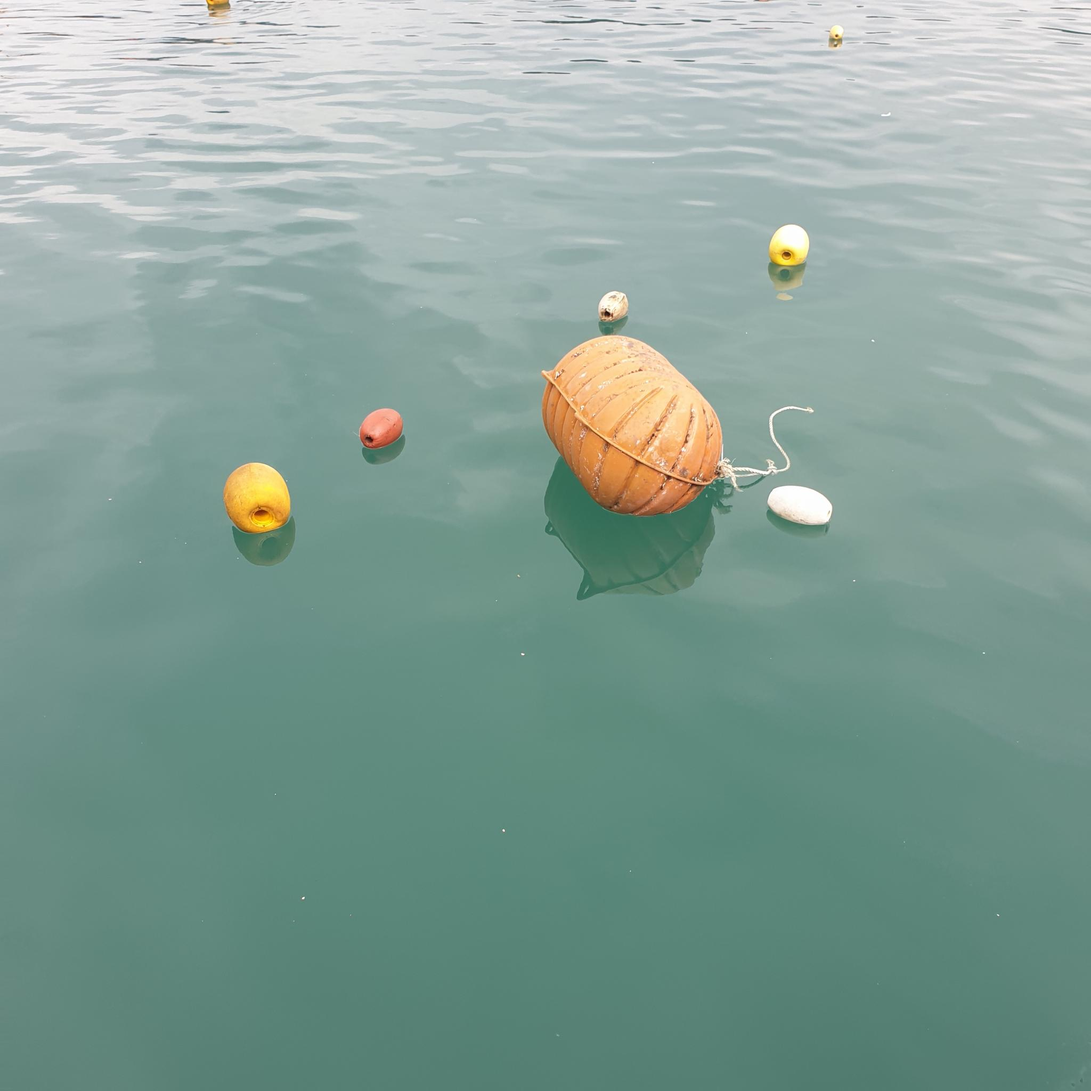sampah_terapung: (542, 335, 723, 517), (719, 407, 815, 493), (223, 462, 291, 534), (768, 486, 834, 526), (359, 409, 404, 449), (769, 224, 810, 266), (598, 291, 630, 323), (830, 26, 844, 39), (208, 1, 229, 6)
